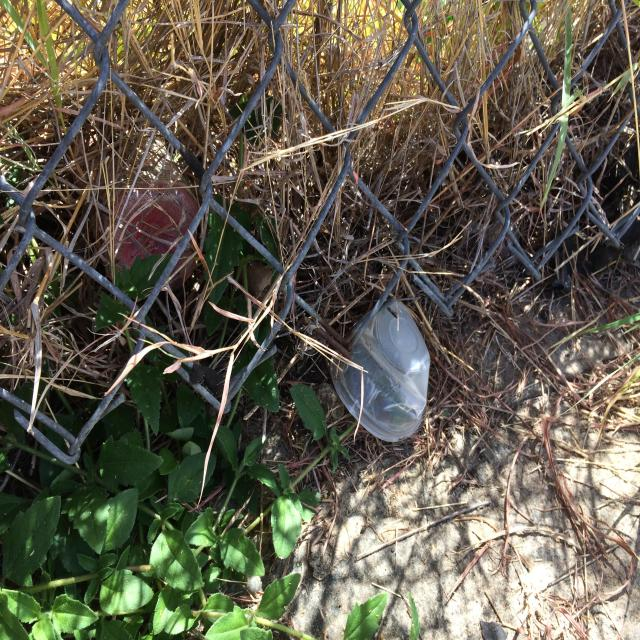litter: (325, 294, 430, 441)
